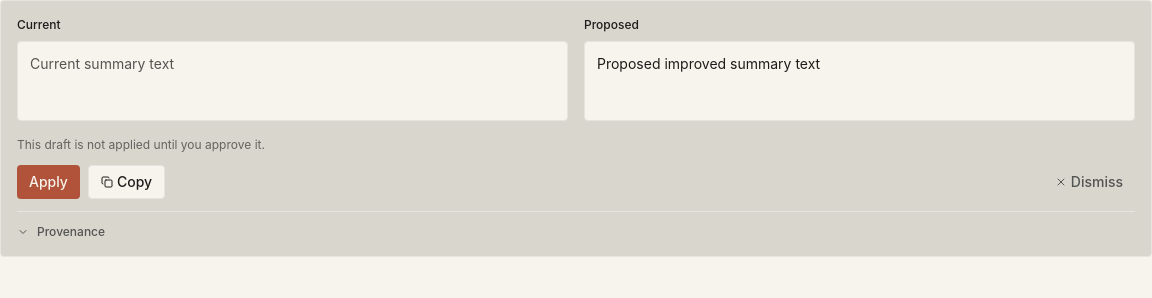
Test: SuggestionCard › provenance › hides provenance when toggle clicked again
This screenshot has width=1152, height=298.
Click the button "Provenance" at (61, 232), box [17,224,105,240]
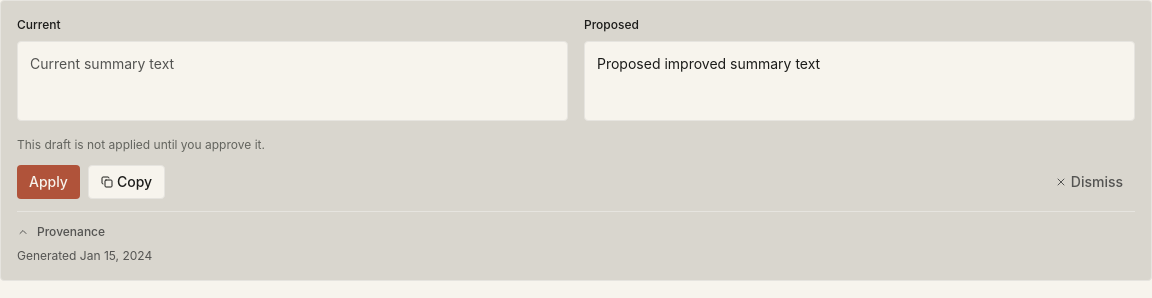
Click the button "Provenance" at (61, 232), box [17,224,105,240]
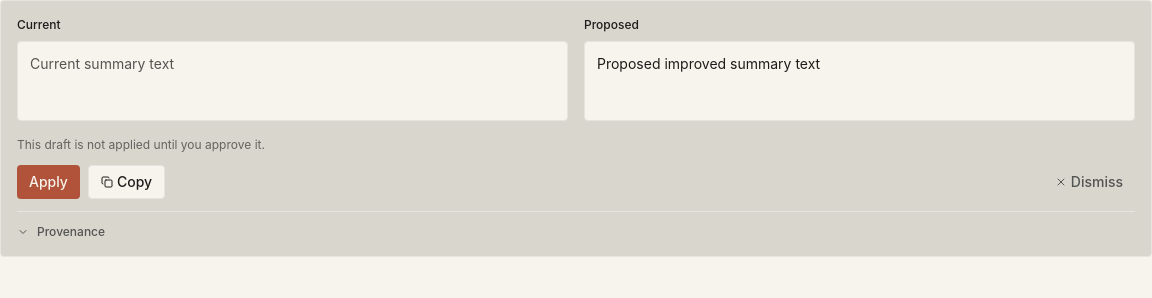
Now the text "Generated" is gone
